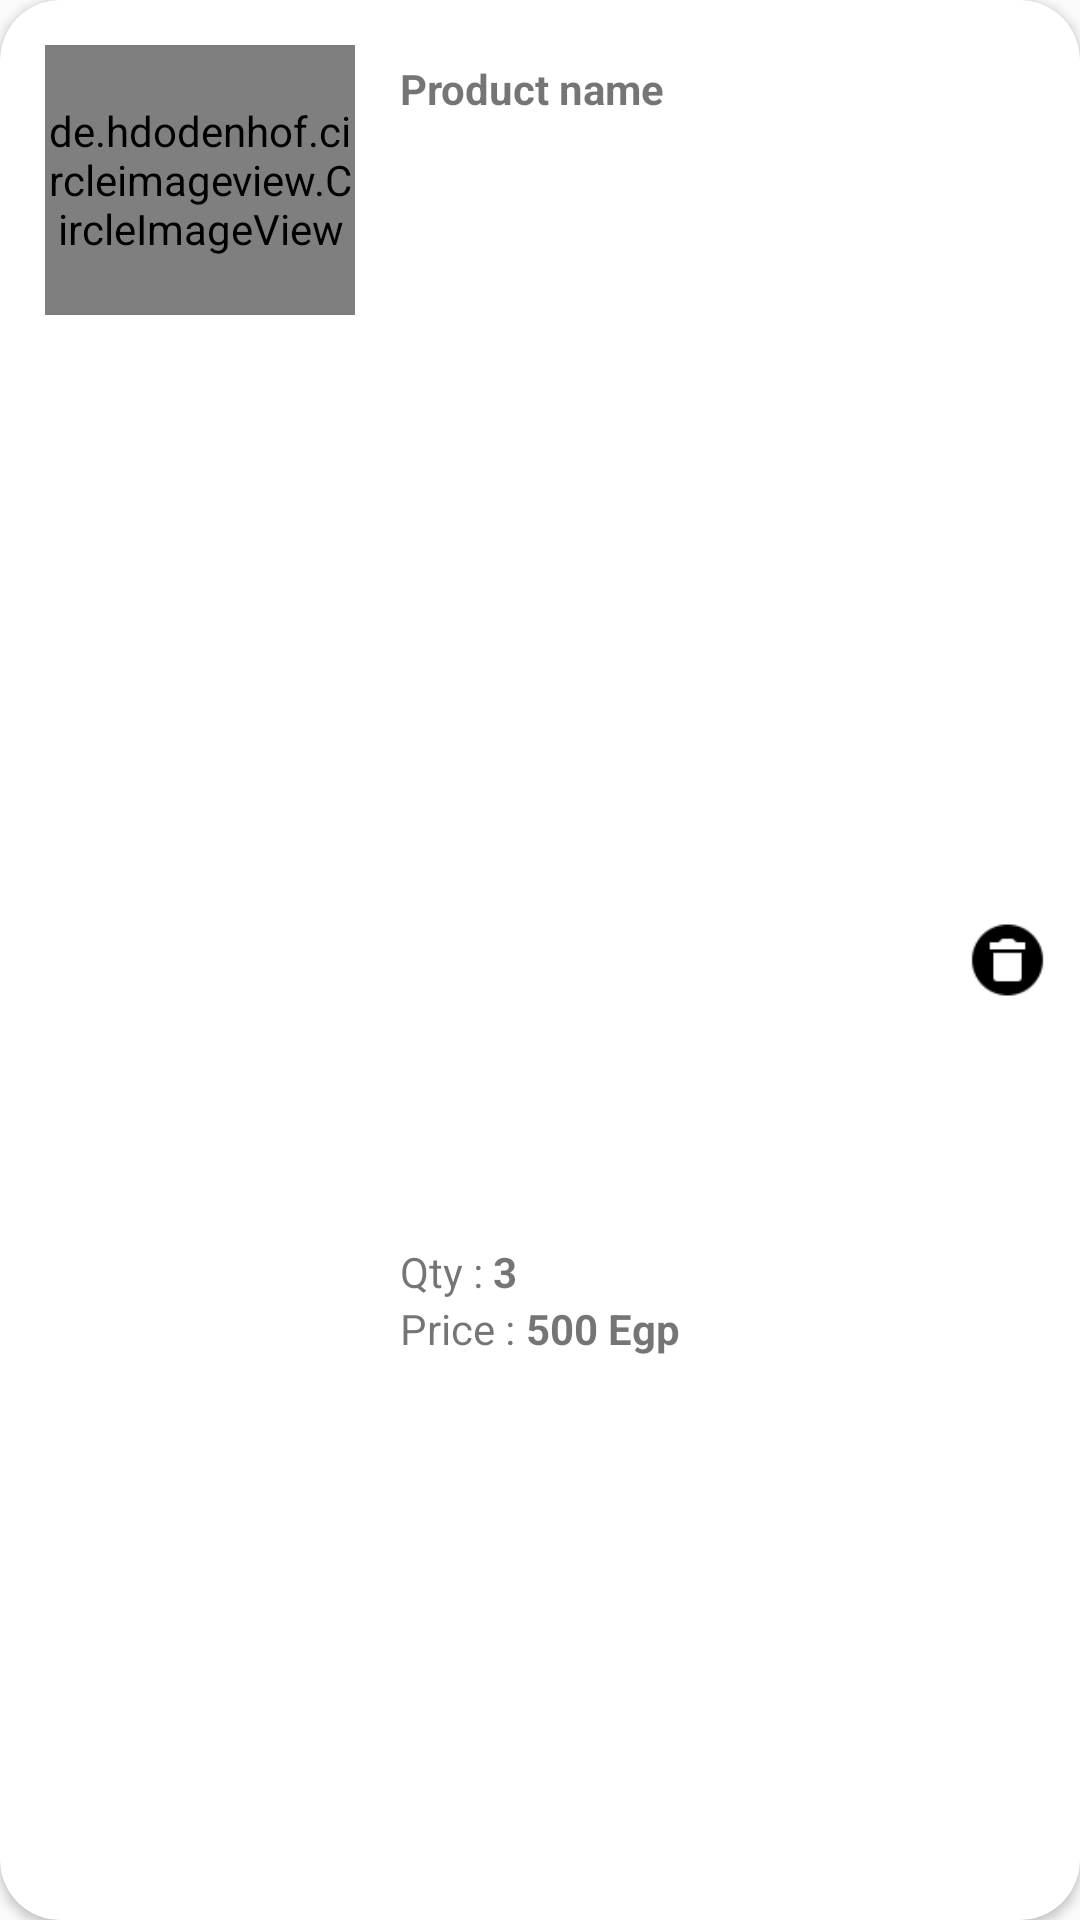

Where icons sit on this 1080 x 1920 app screen, as [x1,y1,x2,y2]:
delete: [971,924,1044,996]
